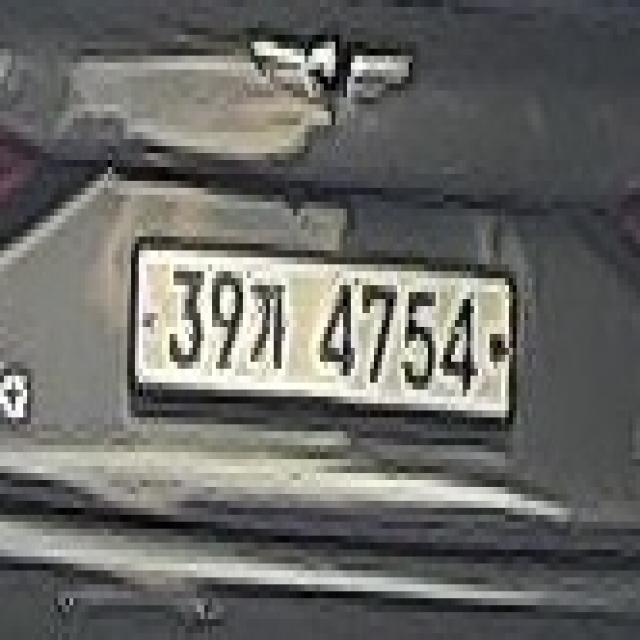3: (166, 264, 204, 369)
4: (440, 285, 478, 397), (316, 278, 359, 376)
5: (401, 278, 436, 397)
7: (359, 278, 397, 390)
9: (208, 264, 243, 369)
ga: (247, 271, 289, 369)
license_plate: (131, 236, 517, 424)
